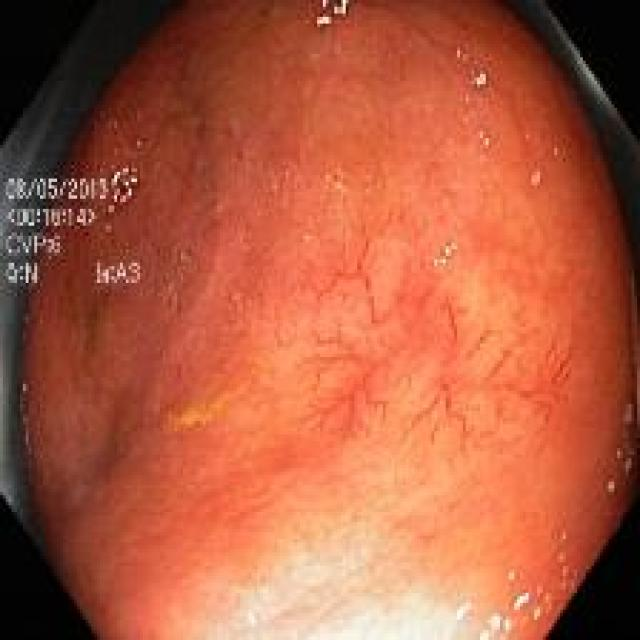ulcerative-colitis-grade-0-1: (268, 193, 570, 478)
